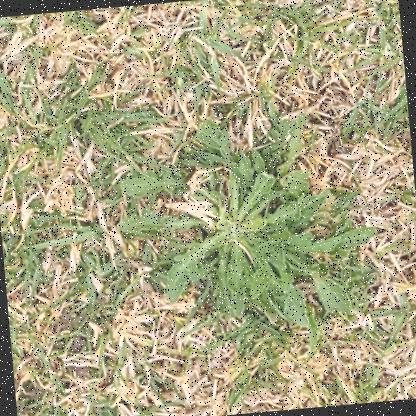Weeds: (109, 101, 386, 345)
